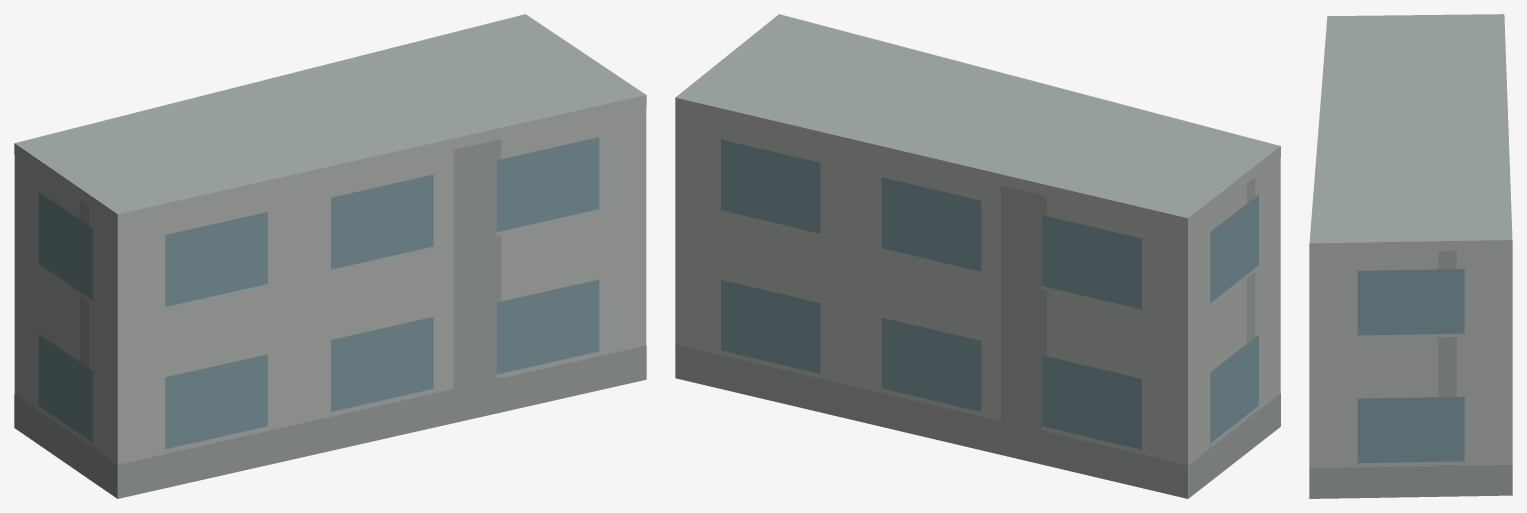
File: survey-upis-32881476.glb
3 renders of one model, left to right at view 1: azimuth 30°, elevation 25°; view 2: azimuth 150°, elevation 25°; view 3: azimuth 270°, elevation 25°, orthographic. The views are drawn at different scales.
Parts seen in each view (by area): view 1: survey-upis-32881476.tmp; view 2: survey-upis-32881476.tmp; view 3: survey-upis-32881476.tmp.
Part boxes in pixels (bbox=[...]): survey-upis-32881476.tmp: bbox=[14, 14, 646, 498]; survey-upis-32881476.tmp: bbox=[675, 14, 1280, 498]; survey-upis-32881476.tmp: bbox=[1309, 14, 1512, 498].
Size of the model in its own units: 11.75 by 6.1 by 4.41.
